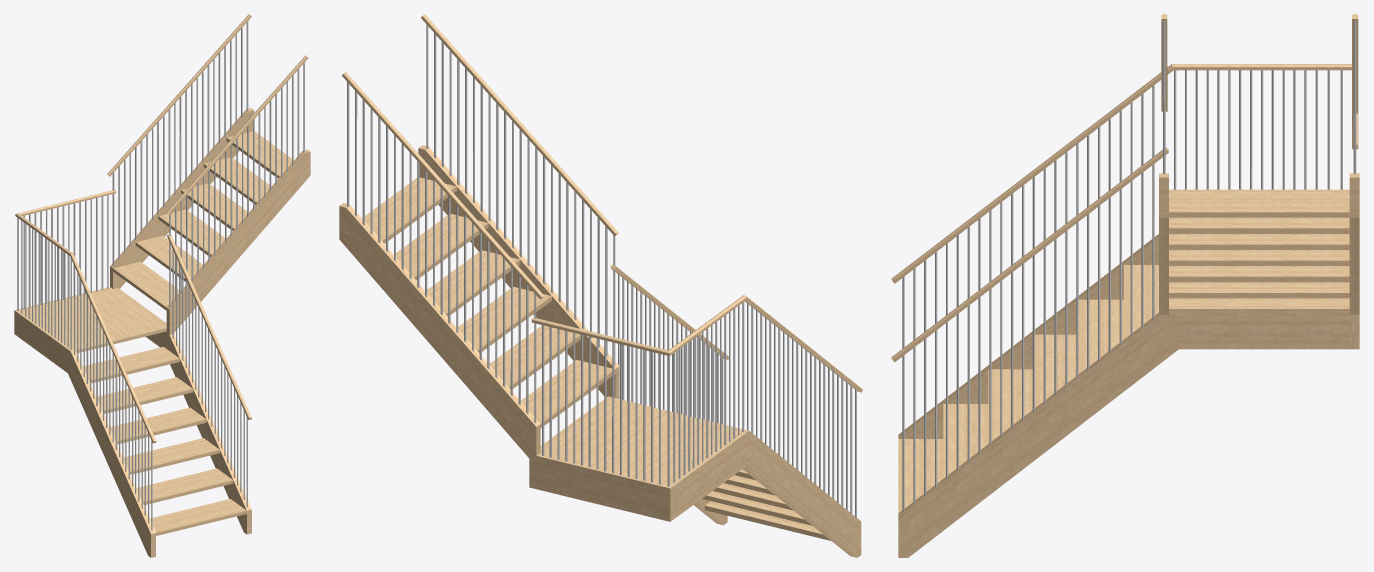
The model's file is sweethome3d-contributions-quarter-landing-staircase-450.glb.
3 renders of one model, left to right at view 1: azimuth 30°, elevation 25°; view 2: azimuth 150°, elevation 25°; view 3: azimuth 270°, elevation 25°, orthographic. The views are drawn at different scales.
Parts seen in each view (by area): view 1: 13_13, 1_1, 2_2, 26_26, 26_26.002, 26_26.003, 26_26.004, 26_26.006, 26_26.005, 1_1.003, 1_1.004, 1_1.002 (+2 smaller); view 2: 1_1, 13_13, 26_26, 2_2, 26_26.002, 26_26.003, 26_26.006, 26_26.005, 26_26.004, 1_1.004, 1_1.007, 1_1.005 (+2 smaller); view 3: 13_13, 1_1, 26_26.004, 26_26.005, 26_26.003, 1_1.003, 1_1.002, 2_2, 1_1.006, 26_26.
Boxes of the visible parts, box(x1,y1,x2,y2) form: 13_13: box(83, 131, 293, 535); 1_1: box(14, 108, 310, 557); 2_2: box(14, 287, 166, 352); 26_26: box(112, 21, 248, 258); 26_26.002: box(169, 62, 304, 306); 26_26.003: box(74, 265, 152, 530); 26_26.004: box(169, 249, 247, 507); 26_26.006: box(17, 194, 114, 310); 26_26.005: box(17, 218, 71, 349); 1_1.003: box(70, 253, 156, 442); 1_1.004: box(107, 14, 251, 176); 1_1.002: box(167, 234, 251, 419); 1_1: box(339, 145, 861, 557); 13_13: box(362, 177, 830, 540); 26_26: box(347, 82, 536, 422); 2_2: box(537, 396, 748, 488); 26_26.002: box(426, 24, 615, 356); 26_26.003: box(747, 302, 856, 517); 26_26.006: box(536, 324, 669, 486); 26_26.005: box(667, 302, 744, 482); 26_26.004: box(613, 270, 723, 424); 1_1.004: box(342, 72, 544, 299); 1_1.007: box(421, 14, 618, 236); 1_1.005: box(531, 317, 669, 355); 13_13: box(898, 189, 1349, 512); 1_1: box(898, 173, 1359, 557); 26_26.004: box(902, 164, 1154, 511); 26_26.005: box(1174, 70, 1342, 189); 26_26.003: box(902, 85, 1154, 348); 1_1.003: box(891, 64, 1174, 283); 1_1.002: box(891, 147, 1168, 362); 2_2: box(1169, 298, 1349, 308); 1_1.006: box(1172, 64, 1351, 70); 26_26: box(1353, 21, 1356, 173).
Size of the model in its own units: 225 by 352 by 228.
14 materials, 8 textured.
